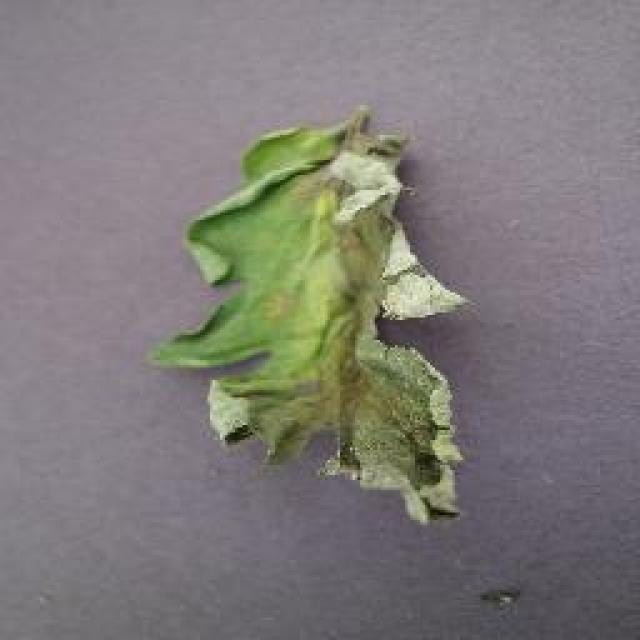Tomato_Late_Blight: (152, 99, 474, 554)
